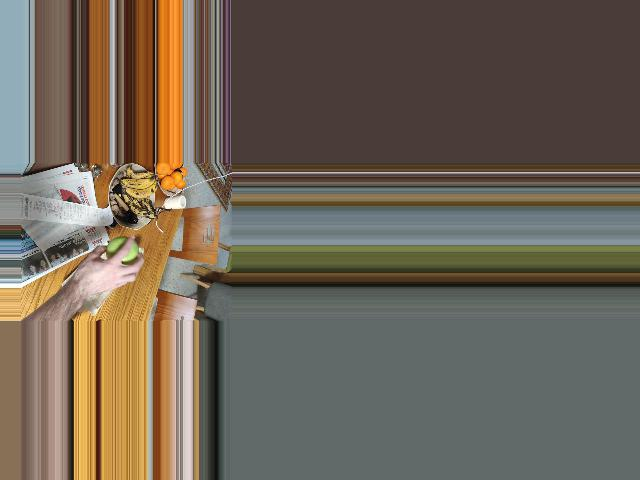apple: (102, 236, 137, 270)
